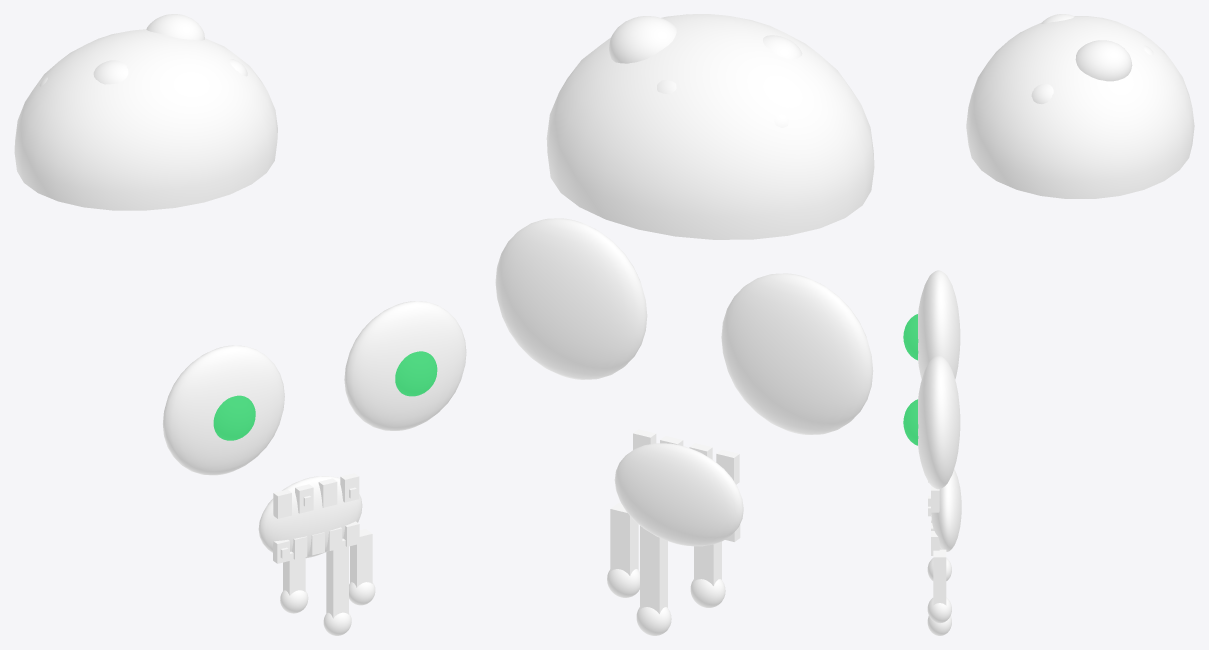
Rendered from trait-oneoff-chogbomination.glb.
The picture shows the model from 3 angles, left to right: view 1: azimuth 30°, elevation 25°; view 2: azimuth 150°, elevation 25°; view 3: azimuth 270°, elevation 25°; orthographic projection. The views are drawn at different scales.
Parts seen in each view (by area): view 1: trait_oneoff_brain, trait_oneoff_zeye_R, trait_oneoff_zeye_L, trait_oneoff_mouth, trait_oneoff_drool_1, trait_oneoff_zpupil_L, trait_oneoff_zpupil_R, trait_oneoff_drool_2, trait_oneoff_bump_0, trait_oneoff_drool_0, trait_oneoff_bump_1; view 2: trait_oneoff_brain, trait_oneoff_zeye_L, trait_oneoff_zeye_R, trait_oneoff_mouth, trait_oneoff_bump_0, trait_oneoff_drool_1, trait_oneoff_drool_2, trait_oneoff_drool_0, trait_oneoff_drip_0, trait_oneoff_drip_1, trait_oneoff_drip_2, trait_oneoff_bump_1 (+1 smaller); view 3: trait_oneoff_brain, trait_oneoff_zeye_R, trait_oneoff_zeye_L, trait_oneoff_bump_0, trait_oneoff_mouth, trait_oneoff_drool_2, trait_oneoff_zpupil_L, trait_oneoff_zpupil_R, trait_oneoff_drip_2.
Boxes of the visible parts, x1,y1,x2,y2 form: trait_oneoff_brain: (14,29,277,210); trait_oneoff_zeye_R: (344,301,466,430); trait_oneoff_zeye_L: (163,345,284,475); trait_oneoff_mouth: (258,476,362,558); trait_oneoff_drool_1: (326,538,348,618); trait_oneoff_zpupil_L: (213,395,255,440); trait_oneoff_zpupil_R: (395,351,437,396); trait_oneoff_drool_2: (350,529,372,587); trait_oneoff_bump_0: (146,14,204,40); trait_oneoff_drool_0: (283,551,305,595); trait_oneoff_bump_1: (93,60,128,84); trait_oneoff_brain: (546,14,874,239); trait_oneoff_zeye_L: (721,273,873,434); trait_oneoff_zeye_R: (495,218,647,379); trait_oneoff_mouth: (614,443,743,546); trait_oneoff_bump_0: (609,16,676,63); trait_oneoff_drool_1: (640,525,667,613); trait_oneoff_drool_2: (610,502,638,575); trait_oneoff_drool_0: (694,541,721,585); trait_oneoff_drip_0: (690,579,725,607); trait_oneoff_drip_1: (636,607,671,635); trait_oneoff_drip_2: (607,569,639,597); trait_oneoff_bump_1: (763,35,802,59); trait_oneoff_brain: (966,16,1194,198); trait_oneoff_zeye_R: (918,356,960,489); trait_oneoff_zeye_L: (918,270,960,379); trait_oneoff_bump_0: (1075,40,1132,81); trait_oneoff_mouth: (931,469,961,551); trait_oneoff_drool_2: (933,549,946,605); trait_oneoff_zpupil_L: (903,314,918,360); trait_oneoff_zpupil_R: (903,399,918,445); trait_oneoff_drip_2: (927,597,951,623).
Size of the model in its own units: 0.919 by 1.39 by 0.663.
